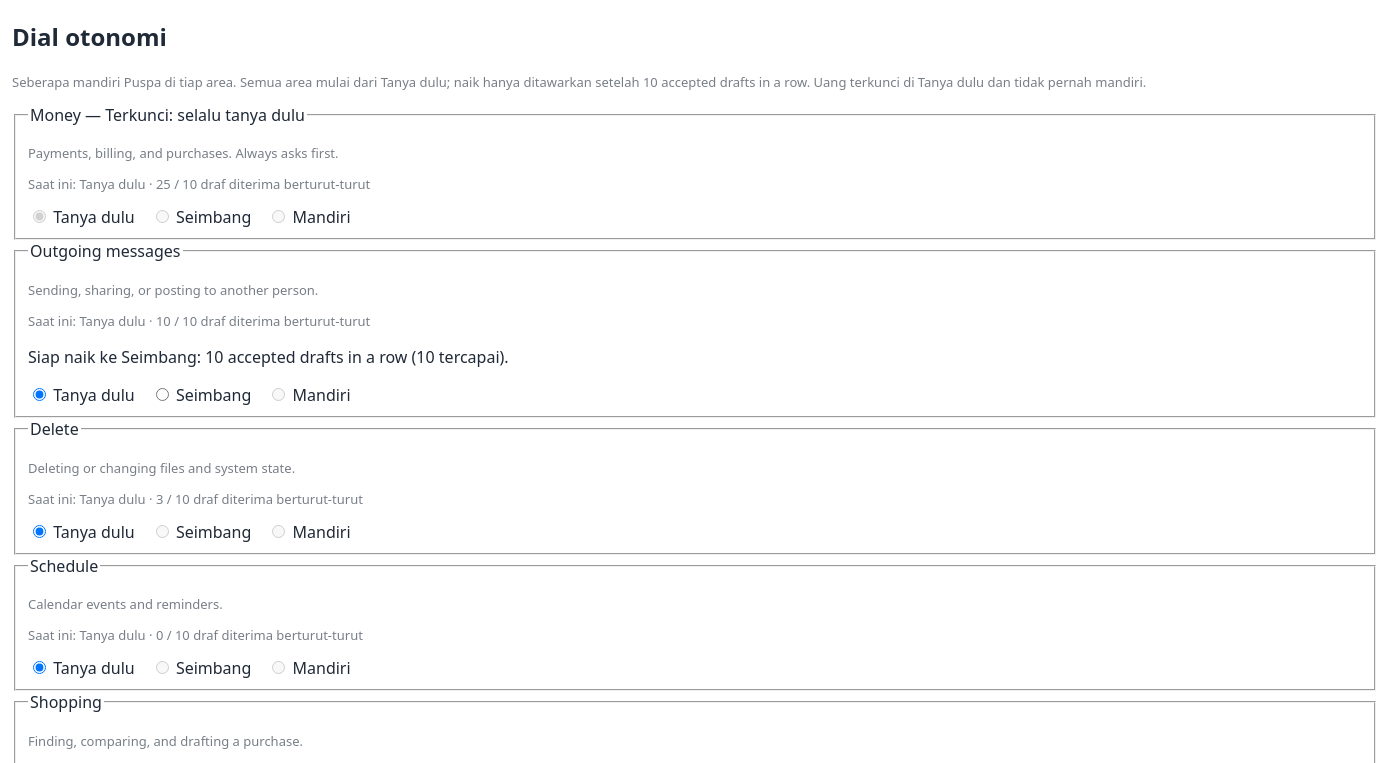
Scenario: AutonomyDialPanel › shows the server error when saving fails
Expected: the text "Siap naik ke Seimbang" is shown, [28,346,509,368]
Click the radio button labelled "Seimbang" below "Outgoing messages": click(162, 394) [156,388,169,401]
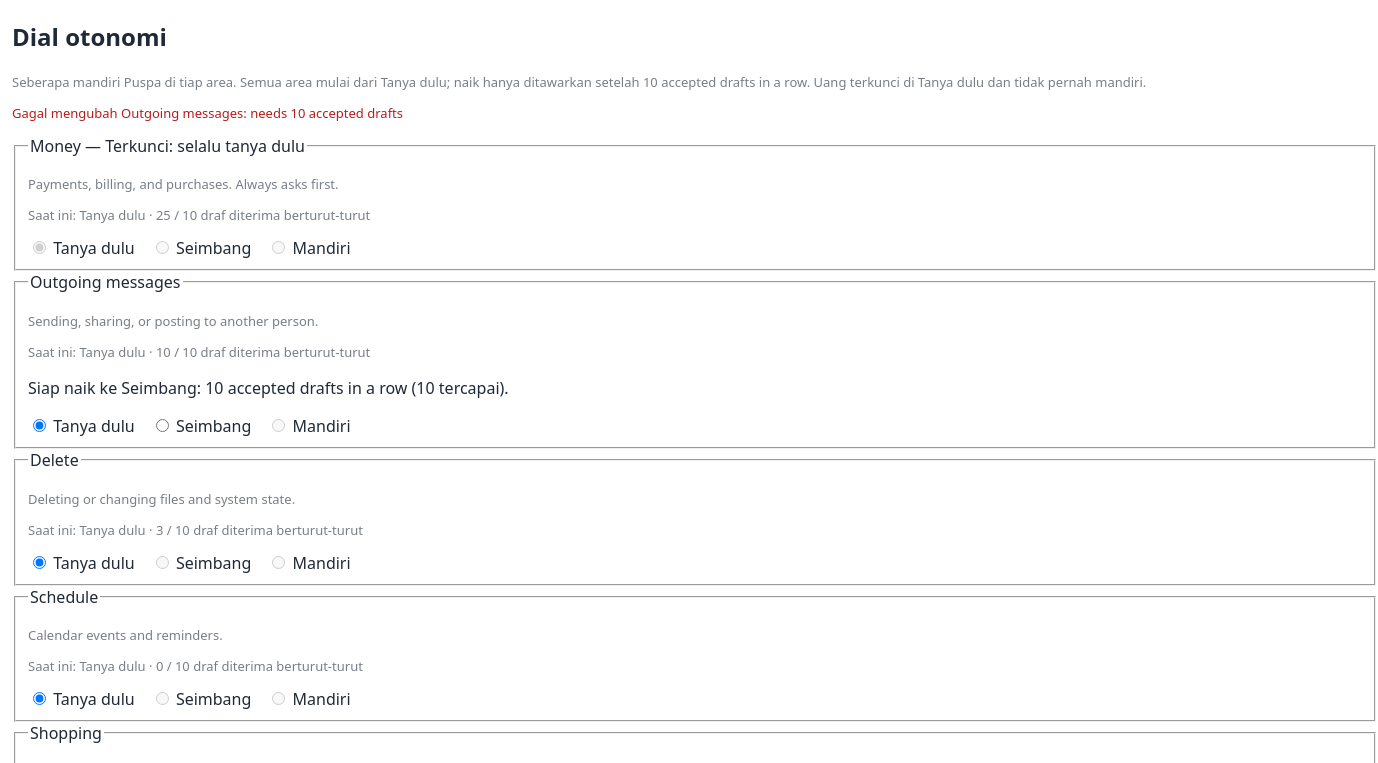
Expected: the text "Gagal mengubah Outgoing messages: needs 10 accepted drafts" is shown, [12,104,403,122]
